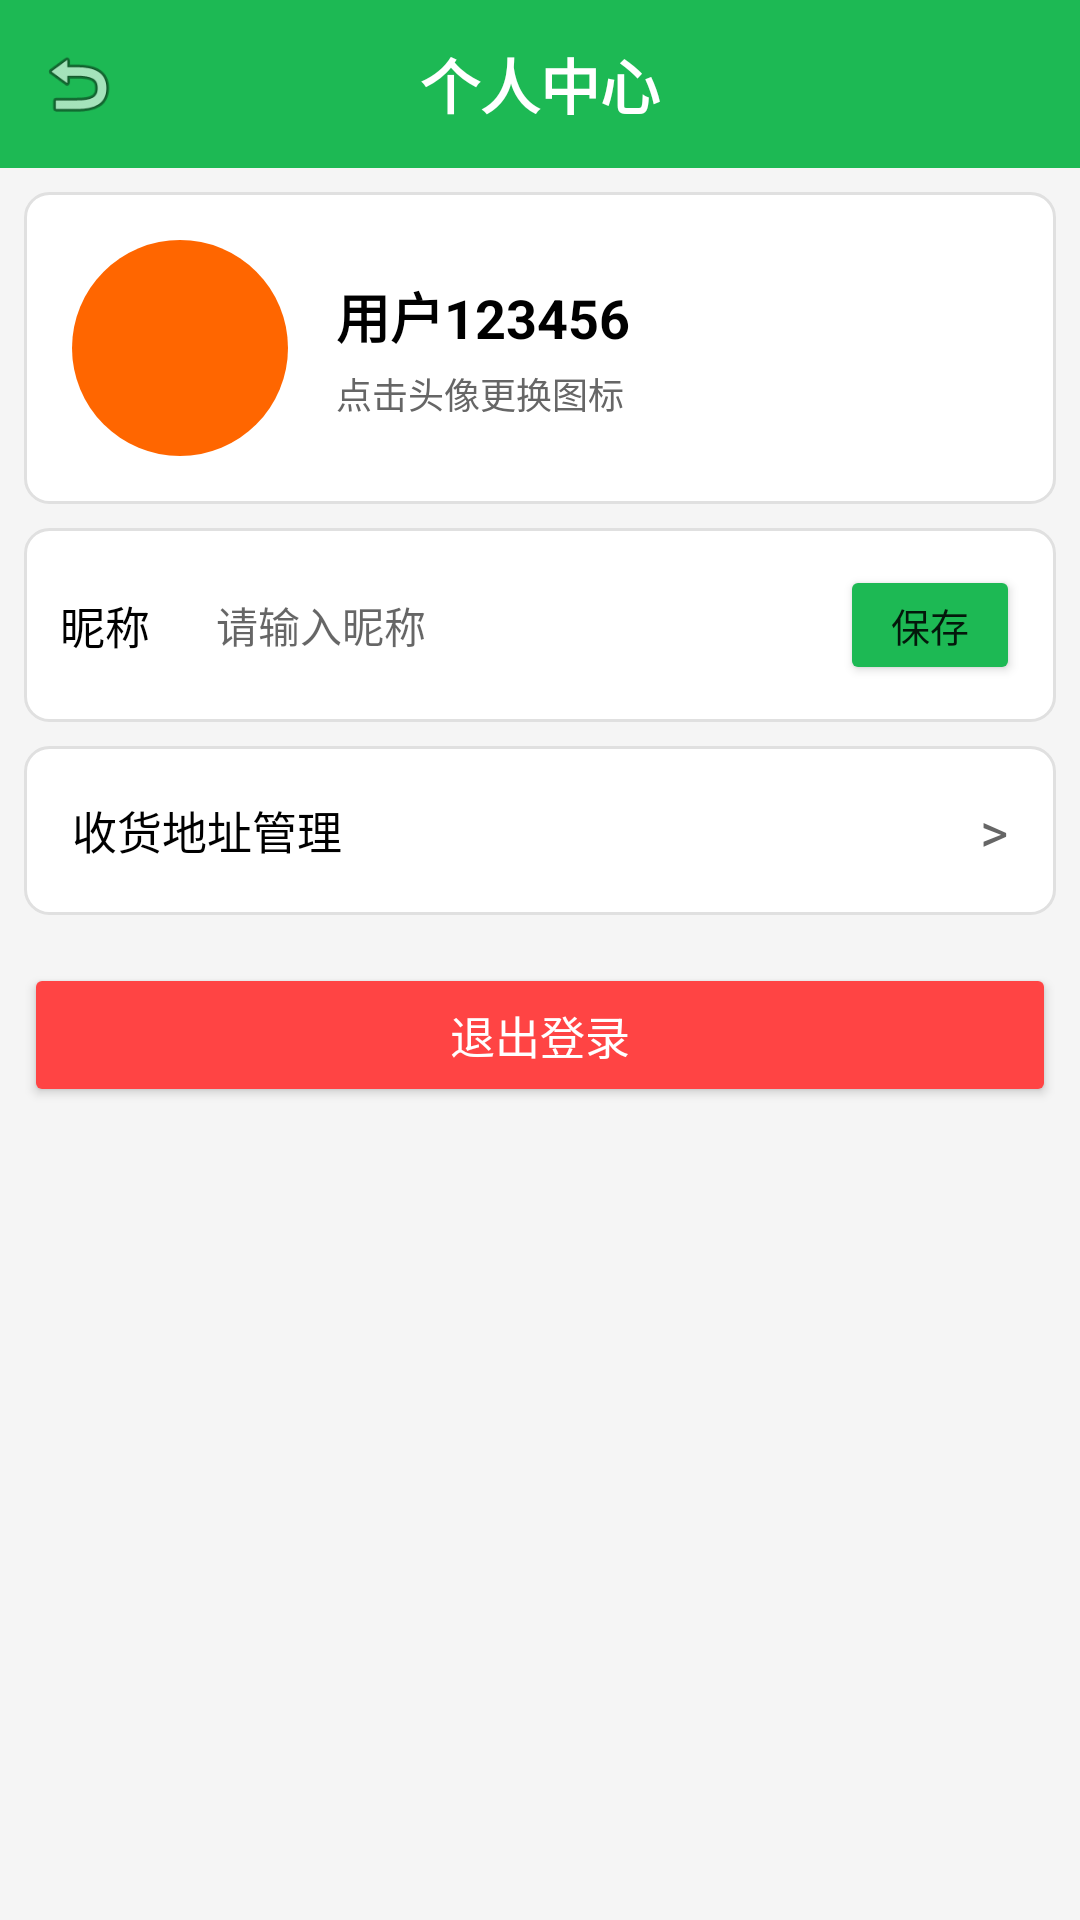

Icons on this 1080*1920 Android screen, each with its box as (left=x1, top=y1, right=x2, bottom=y2):
返回: (left=49, top=57, right=109, bottom=112)
